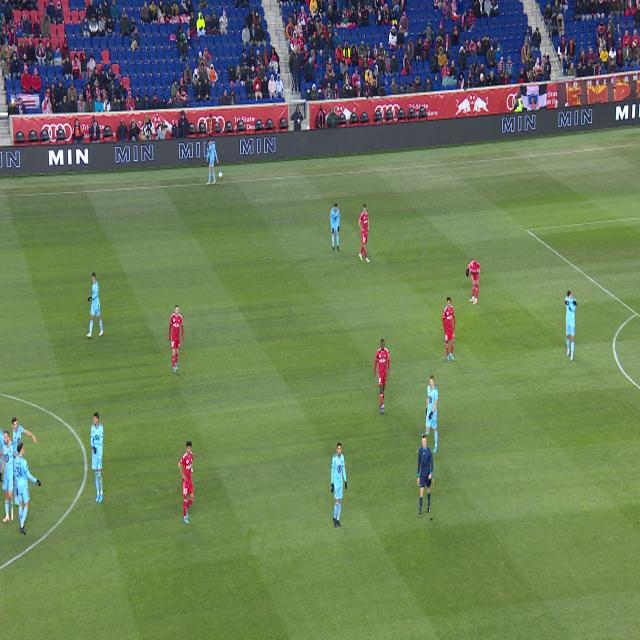player: (8, 417, 38, 505), (14, 442, 41, 535), (331, 443, 347, 528), (178, 441, 194, 524), (90, 413, 104, 503), (0, 430, 13, 523), (374, 340, 390, 413), (169, 305, 184, 374), (87, 273, 103, 337), (426, 375, 438, 453), (565, 290, 577, 362), (443, 298, 455, 361), (466, 260, 481, 305), (359, 204, 370, 263), (206, 138, 219, 185), (330, 204, 340, 252)
referee: (418, 435, 433, 518)
